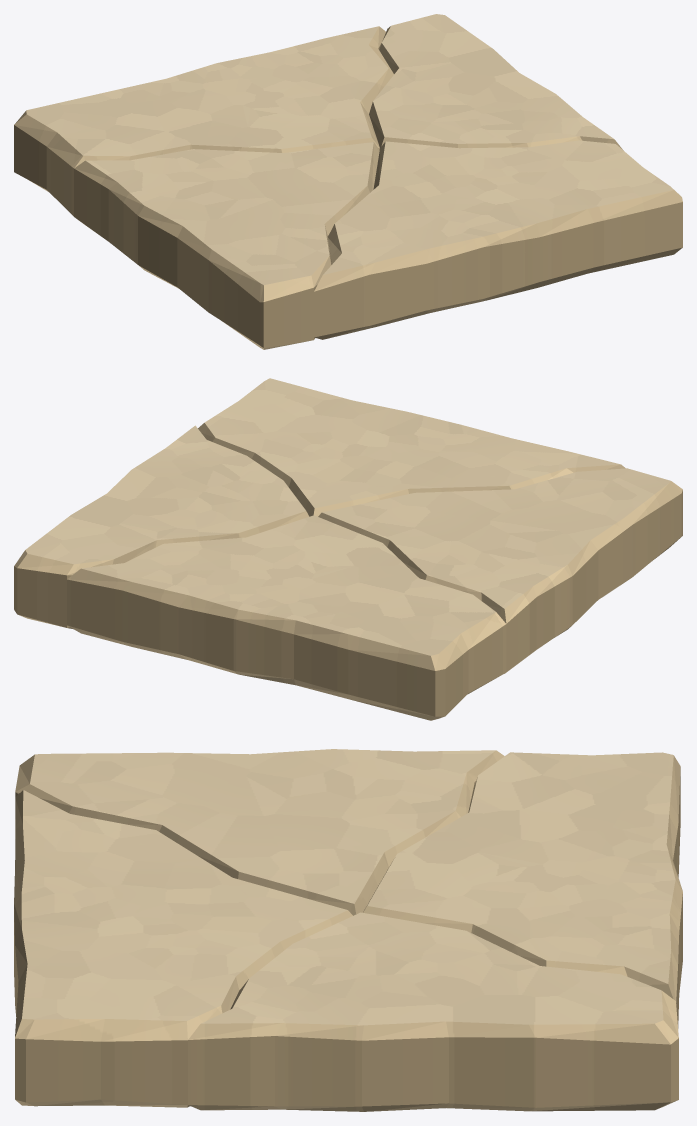
Rendered from tile_b_fragments.glb.
The picture shows the model from 3 angles, top to bottom: view 1: azimuth 30°, elevation 25°; view 2: azimuth 150°, elevation 25°; view 3: azimuth 270°, elevation 25°; orthographic projection. The views are drawn at different scales.
Parts seen in each view (by area): view 1: fragment_b_01, fragment_b_04, fragment_b_03, fragment_b_02; view 2: fragment_b_03, fragment_b_04, fragment_b_01, fragment_b_02; view 3: fragment_b_02, fragment_b_01, fragment_b_03, fragment_b_04.
Part boxes in pixels (x1=…): fragment_b_01: x1=314, y1=140, x2=682, y2=339; fragment_b_04: x1=74, y1=142, x2=379, y2=349; fragment_b_03: x1=14, y1=26, x2=393, y2=216; fragment_b_02: x1=369, y1=14, x2=623, y2=150; fragment_b_03: x1=67, y1=515, x2=506, y2=720; fragment_b_04: x1=318, y1=468, x2=682, y2=673; fragment_b_01: x1=198, y1=378, x2=625, y2=516; fragment_b_02: x1=14, y1=425, x2=309, y2=629; fragment_b_02: x1=188, y1=912, x2=678, y2=1111; fragment_b_01: x1=14, y1=790, x2=352, y2=1107; fragment_b_03: x1=363, y1=752, x2=682, y2=1028; fragment_b_04: x1=15, y1=749, x2=504, y2=915.
Bounding box in the file's own units: 2.8 × 0.4 × 2.8.
3 materials, 3 textured.
